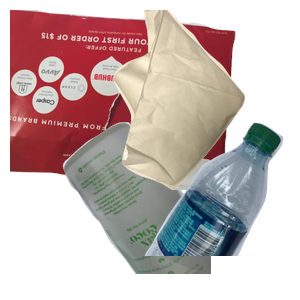glass: (60, 120, 300, 300)
paper: (10, 10, 238, 190)
plastic: (142, 120, 300, 300)
trash: (111, 10, 300, 190)
